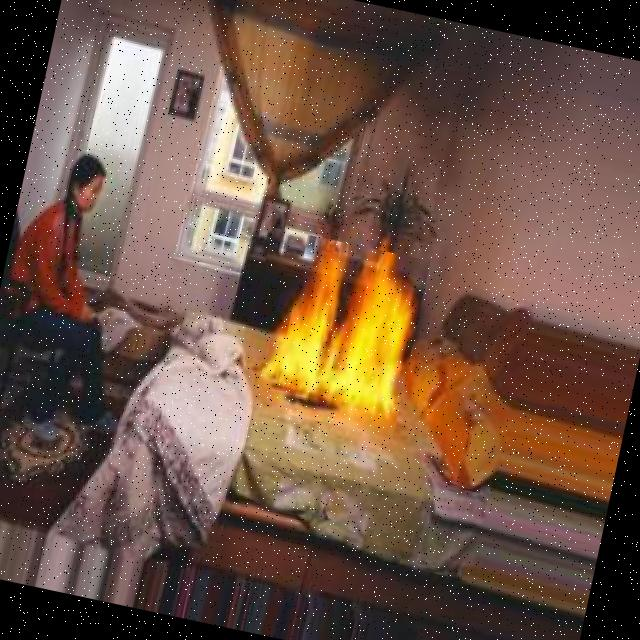fire: (235, 227, 430, 437)
